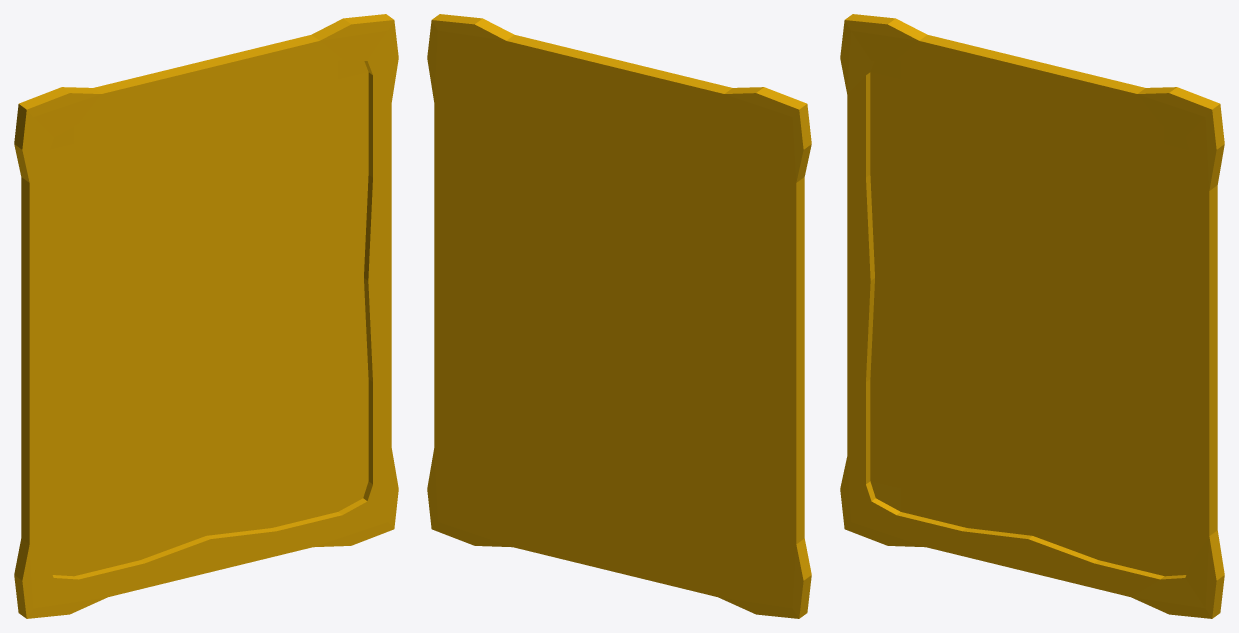
File: Big Painting.fbx
3 views of the same model, side by side, from view 1: azimuth 30°, elevation 25°; view 2: azimuth 150°, elevation 25°; view 3: azimuth 330°, elevation 25° (orthographic).
Visible parts, largest first — view 1: Cube; view 2: Cube; view 3: Cube.
Boxes of the visible parts, <box> form: Cube: <box>14,14,398,618</box>; Cube: <box>427,14,811,618</box>; Cube: <box>840,14,1224,618</box>.
Bounding box in the file's own units: 351 × 464 × 13.52.
